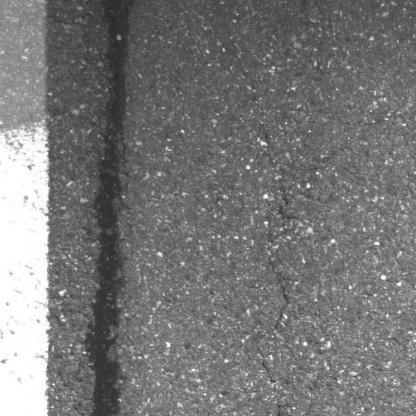Cracks: (263, 172, 306, 335), (258, 353, 287, 416)
